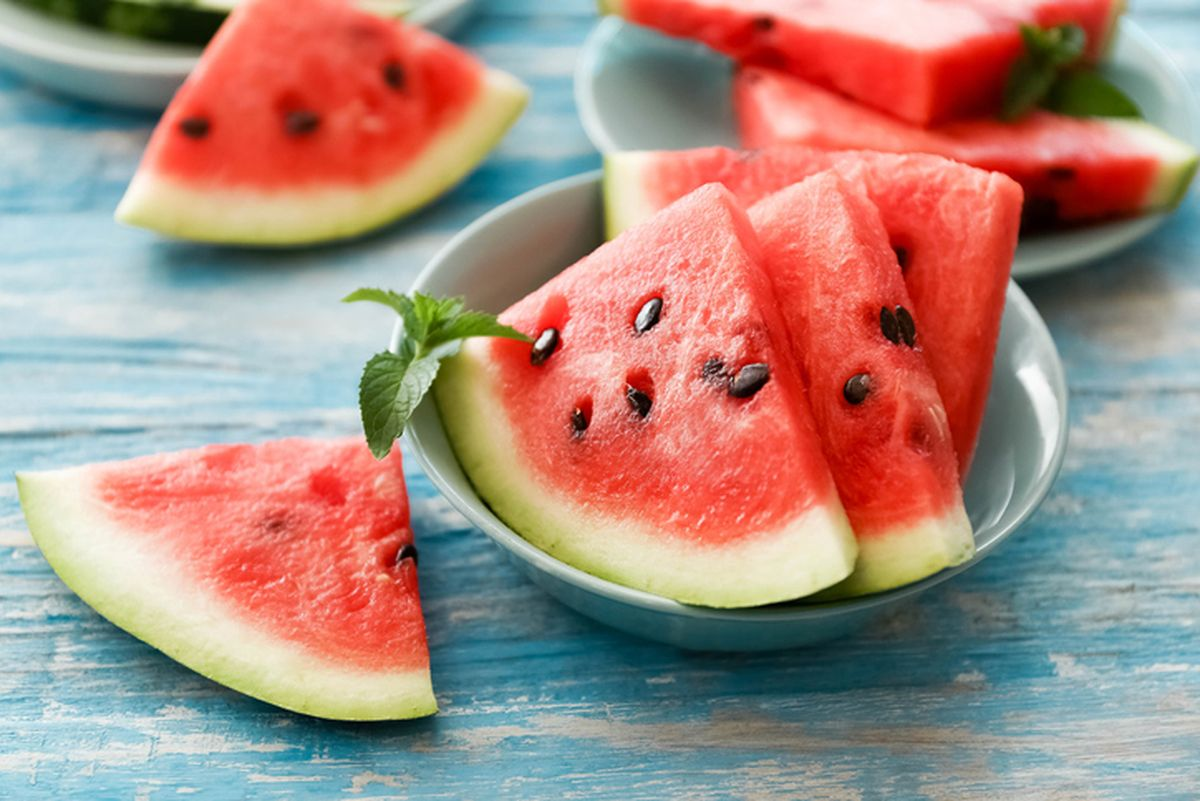Semangka: (430, 228, 784, 583), (117, 21, 502, 266), (738, 210, 921, 582), (709, 69, 1186, 206)
